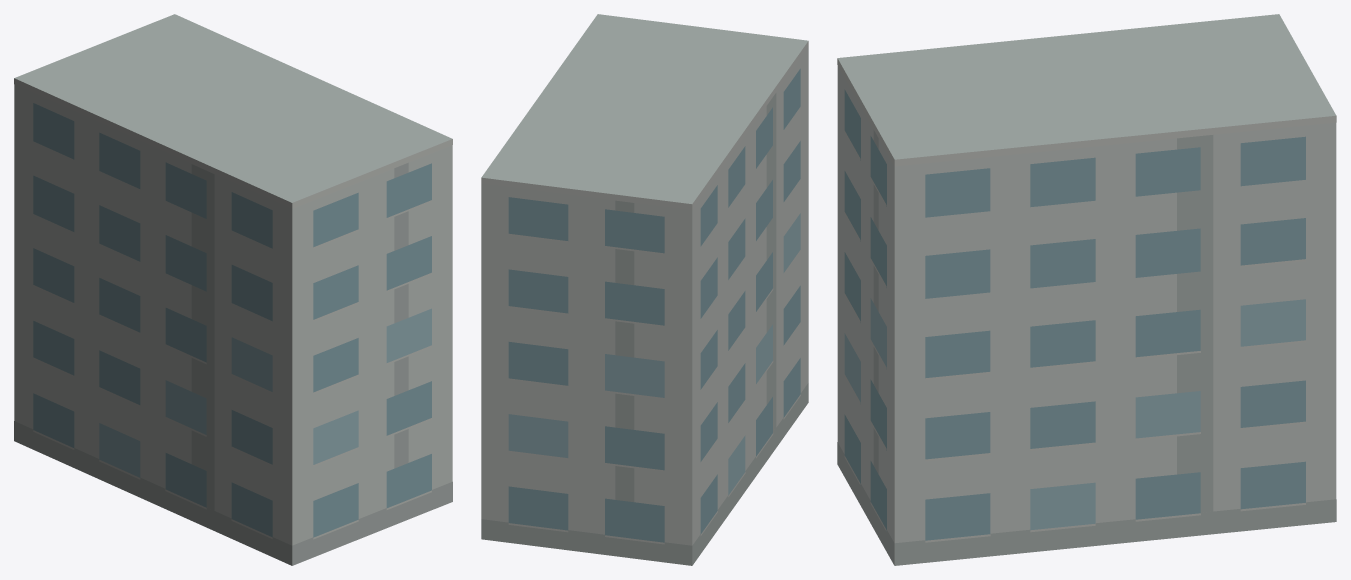
File: survey-upis-32715176.glb
3 renders of one model, left to right at view 1: azimuth 30°, elevation 25°; view 2: azimuth 150°, elevation 25°; view 3: azimuth 270°, elevation 25°, orthographic. The views are drawn at different scales.
Visible parts, largest first — view 1: survey-upis-32715176.tmp; view 2: survey-upis-32715176.tmp; view 3: survey-upis-32715176.tmp.
Boxes of the visible parts, x1,y1,x2,y2 form: survey-upis-32715176.tmp: [14, 14, 452, 565]; survey-upis-32715176.tmp: [481, 14, 808, 565]; survey-upis-32715176.tmp: [837, 14, 1336, 565].
Size of the model in its own units: 11.12 by 14.45 by 16.1.
